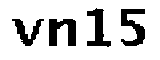1: (83, 5, 111, 49)
5: (118, 5, 146, 49)
n: (47, 15, 77, 50)
v: (11, 16, 43, 49)
